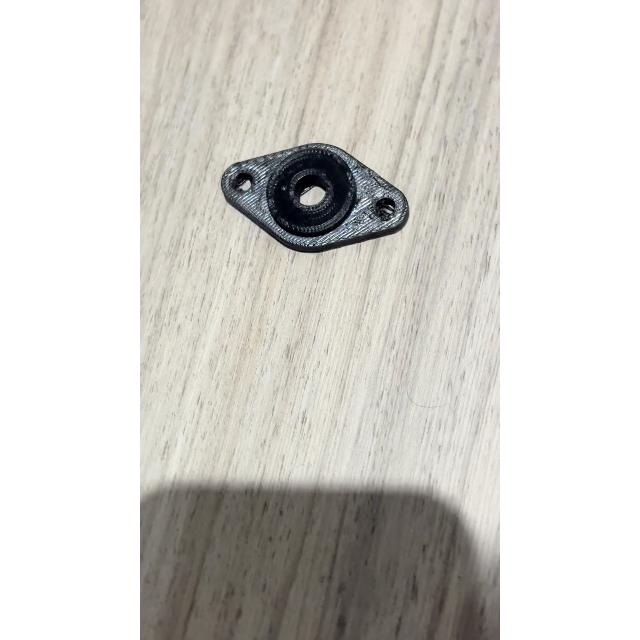Pieza_2: (210, 134, 422, 276)
